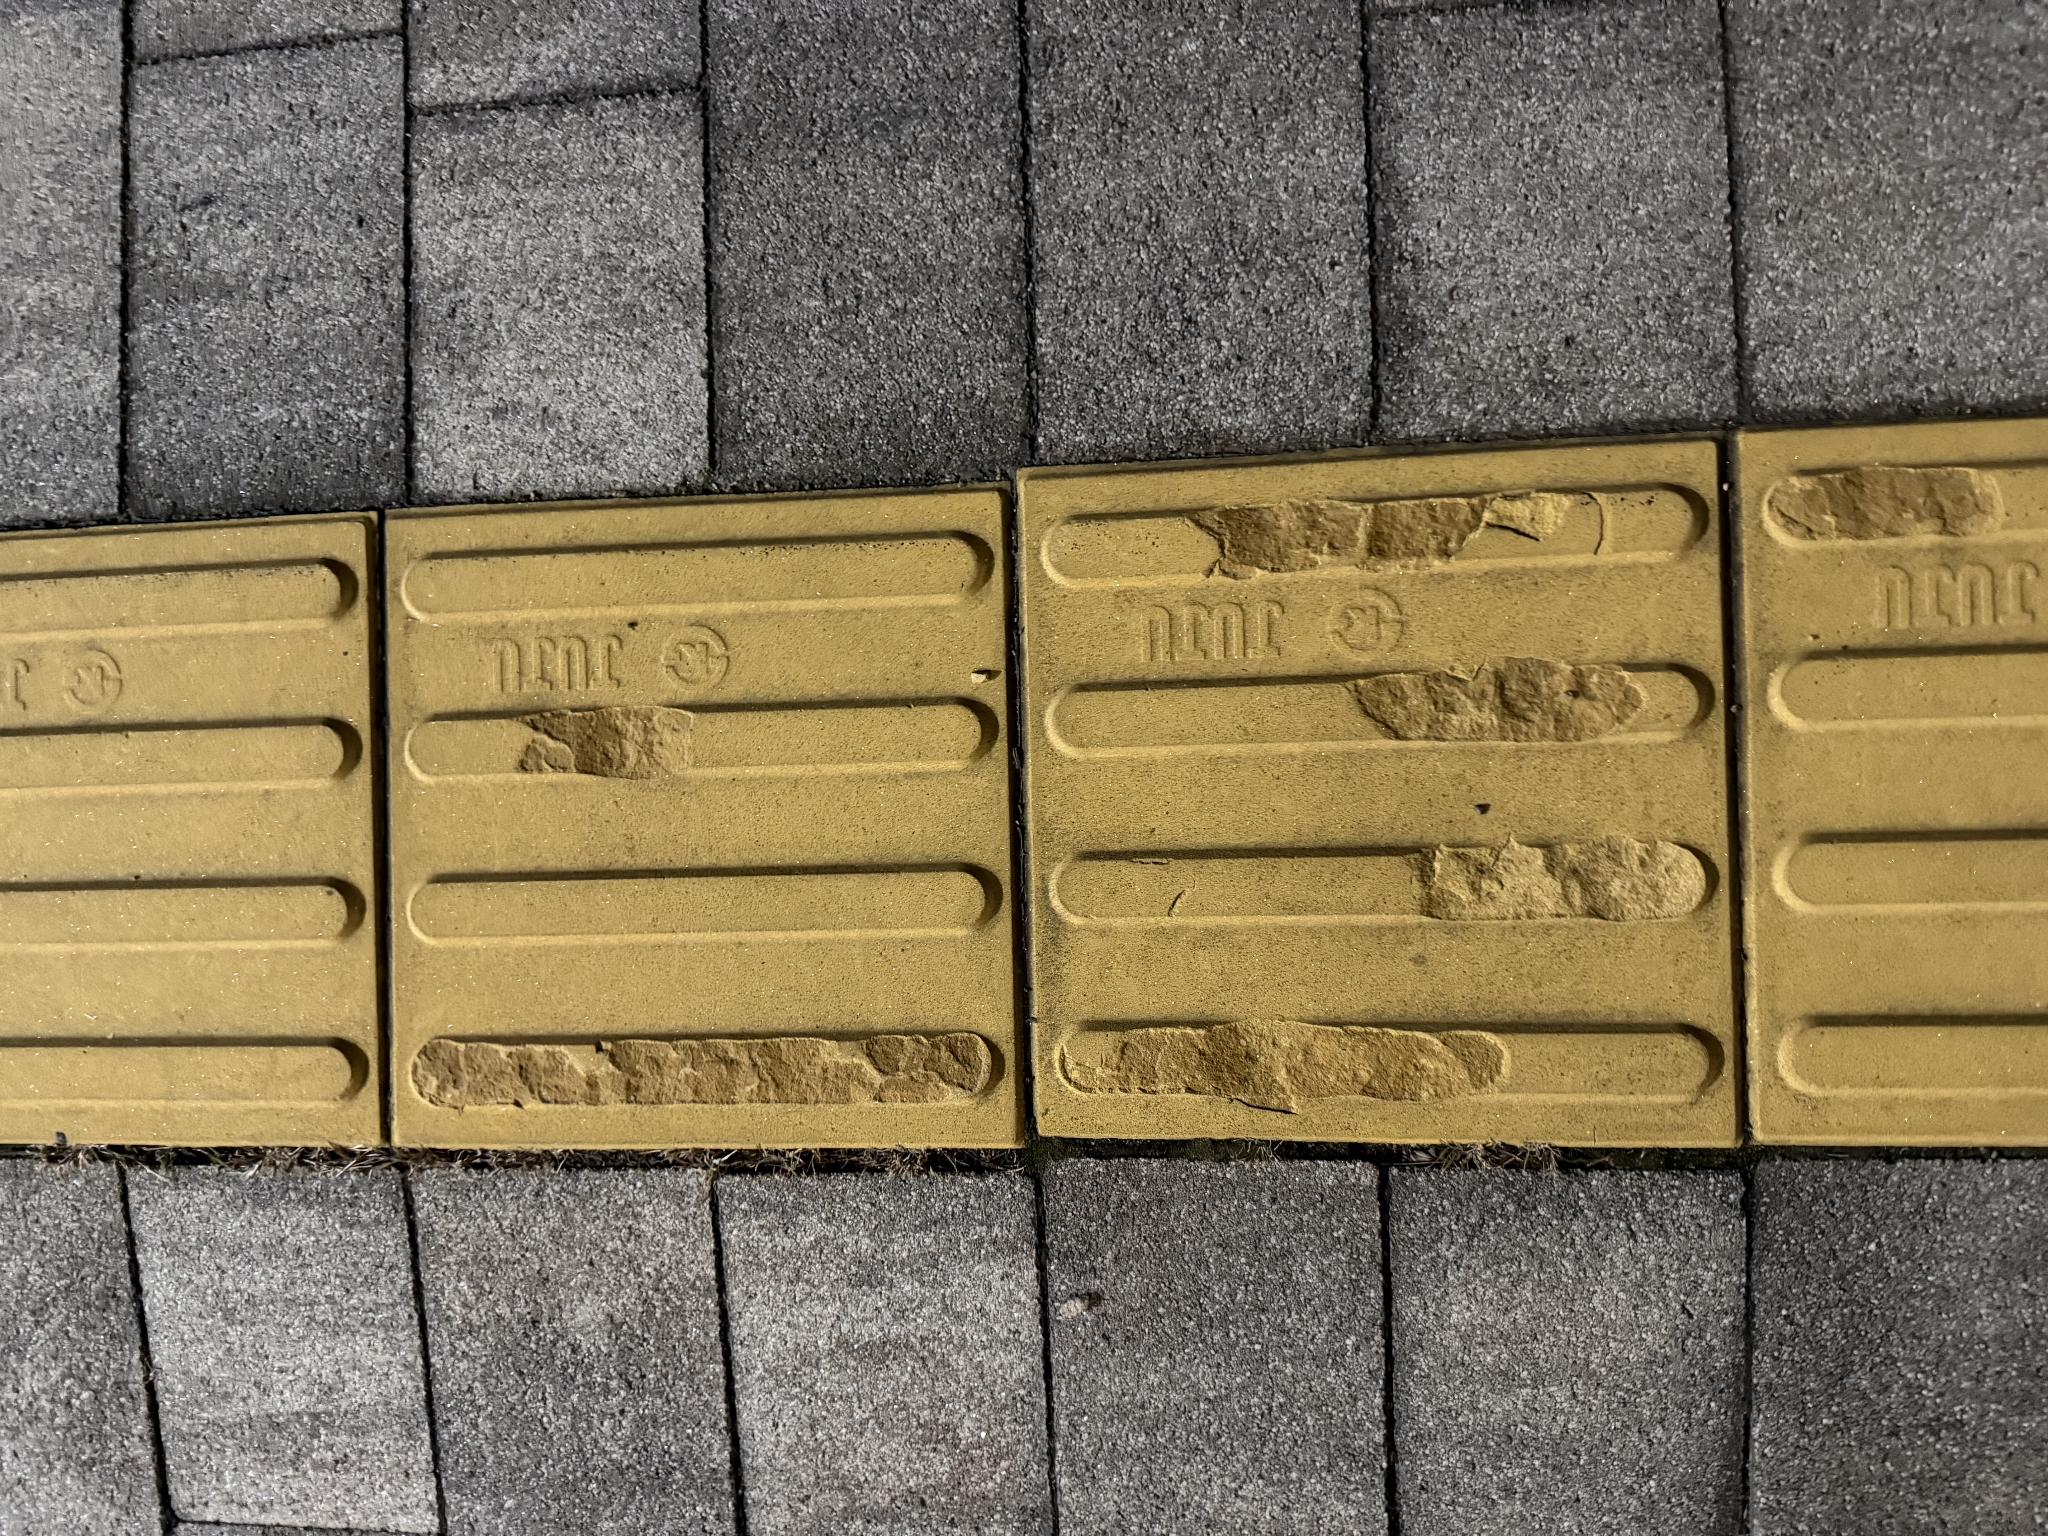Straight block broken: (397, 1025, 1085, 1536)
